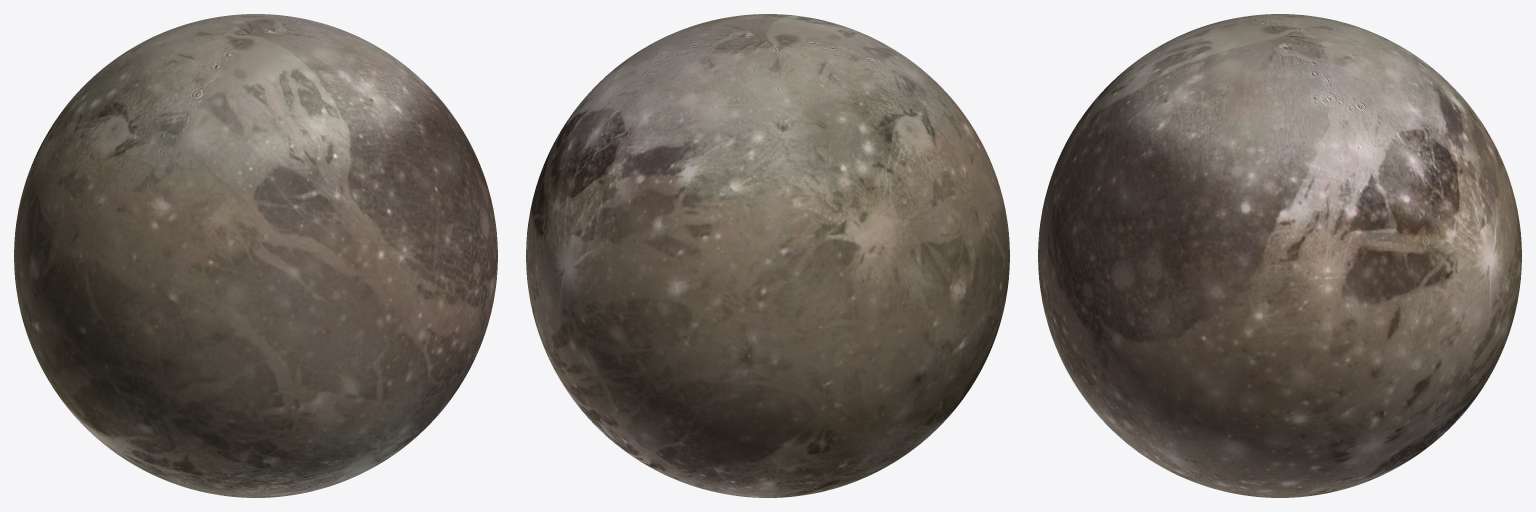
Rendered from moonganymede.glb.
The picture shows the model from 3 angles, left to right: view 1: azimuth 30°, elevation 25°; view 2: azimuth 150°, elevation 25°; view 3: azimuth 270°, elevation 25°; orthographic projection.
Parts seen in each view (by area): view 1: cylindrically_mapped_sphere; view 2: cylindrically_mapped_sphere; view 3: cylindrically_mapped_sphere.
Part boxes in pixels (bbox=[...]): cylindrically_mapped_sphere: bbox=[14, 14, 497, 497]; cylindrically_mapped_sphere: bbox=[526, 14, 1009, 497]; cylindrically_mapped_sphere: bbox=[1038, 14, 1521, 497].
Bounding box in the file's own units: 1000 × 1000 × 1000.
Materials: 1 (1 with a texture image).
